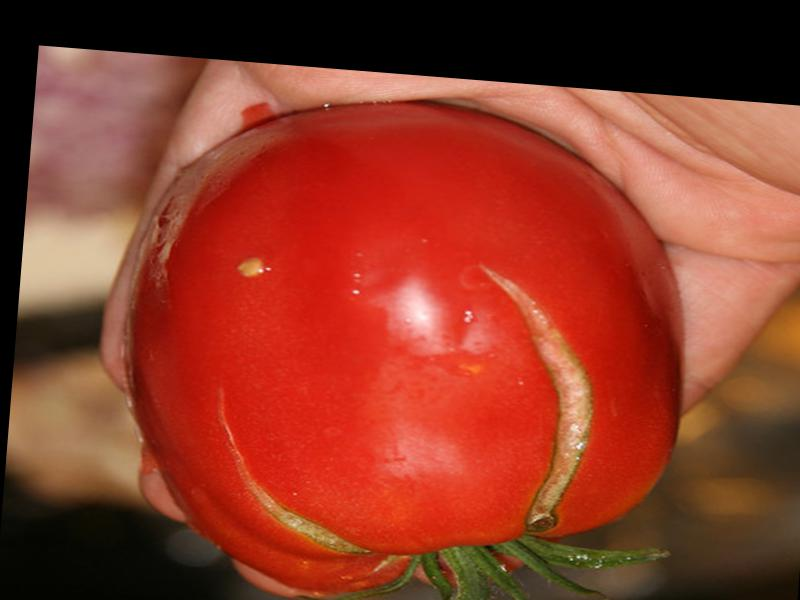Tomato: (108, 81, 695, 600)
